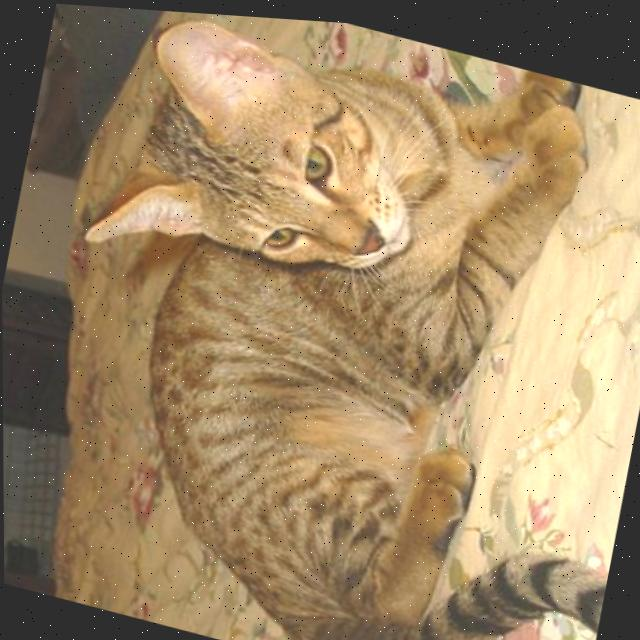Egyptian Mau: (6, 0, 640, 640)
